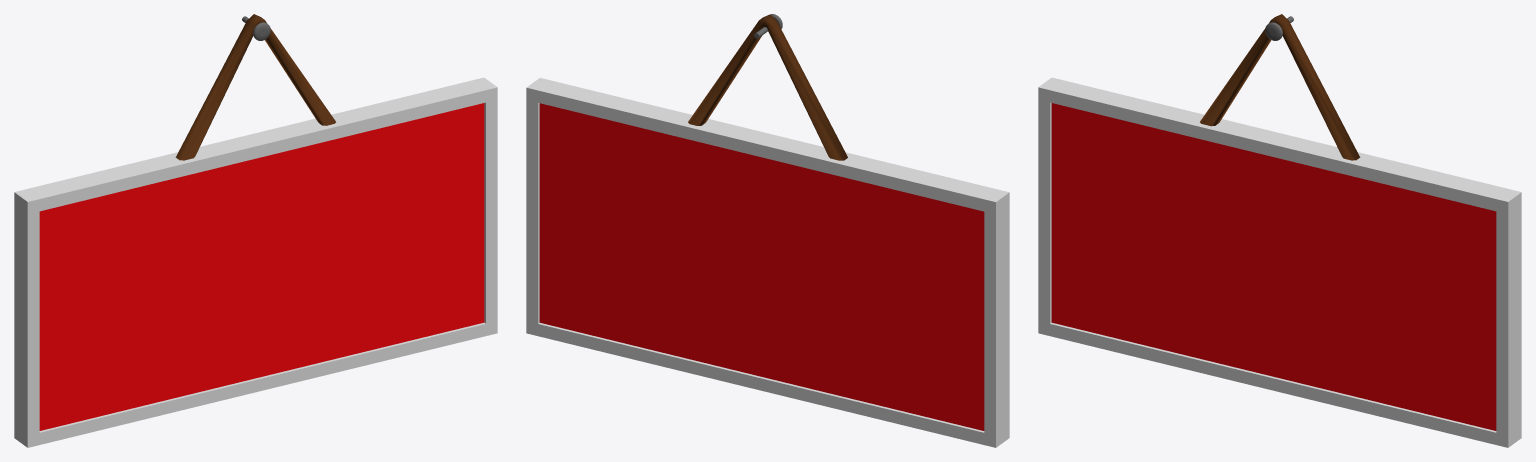
The model's file is Open Sign.fbx.
The picture shows the model from 3 angles, left to right: view 1: azimuth 30°, elevation 25°; view 2: azimuth 150°, elevation 25°; view 3: azimuth 330°, elevation 25°; orthographic projection.
Parts seen in each view (by area): view 1: Sign; view 2: Sign; view 3: Sign.
Boxes of the visible parts, bbox=[...] form: Sign: bbox=[14, 14, 497, 447]; Sign: bbox=[526, 14, 1009, 447]; Sign: bbox=[1038, 14, 1521, 447].
Size of the model in its own units: 50 by 37.64 by 3.39.
